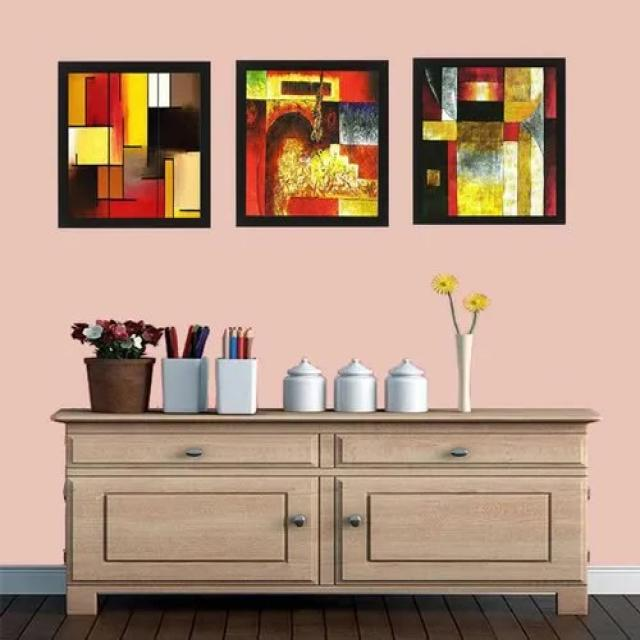painting: (236, 62, 389, 228), (414, 57, 566, 224), (58, 62, 210, 228)
